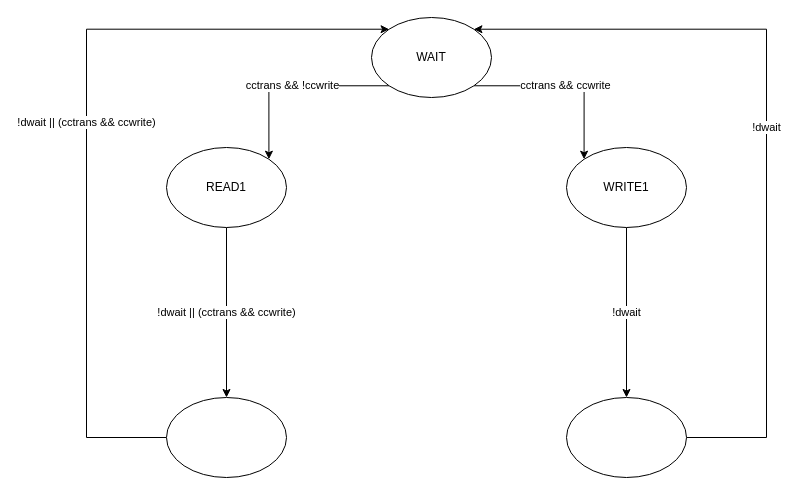
This 798x495 diagram has some shape labels left out. The centre of each missing label's shape, as x and y in pixels:
"READ2" goes at (226,437).
"WRITE2" goes at (626,437).
